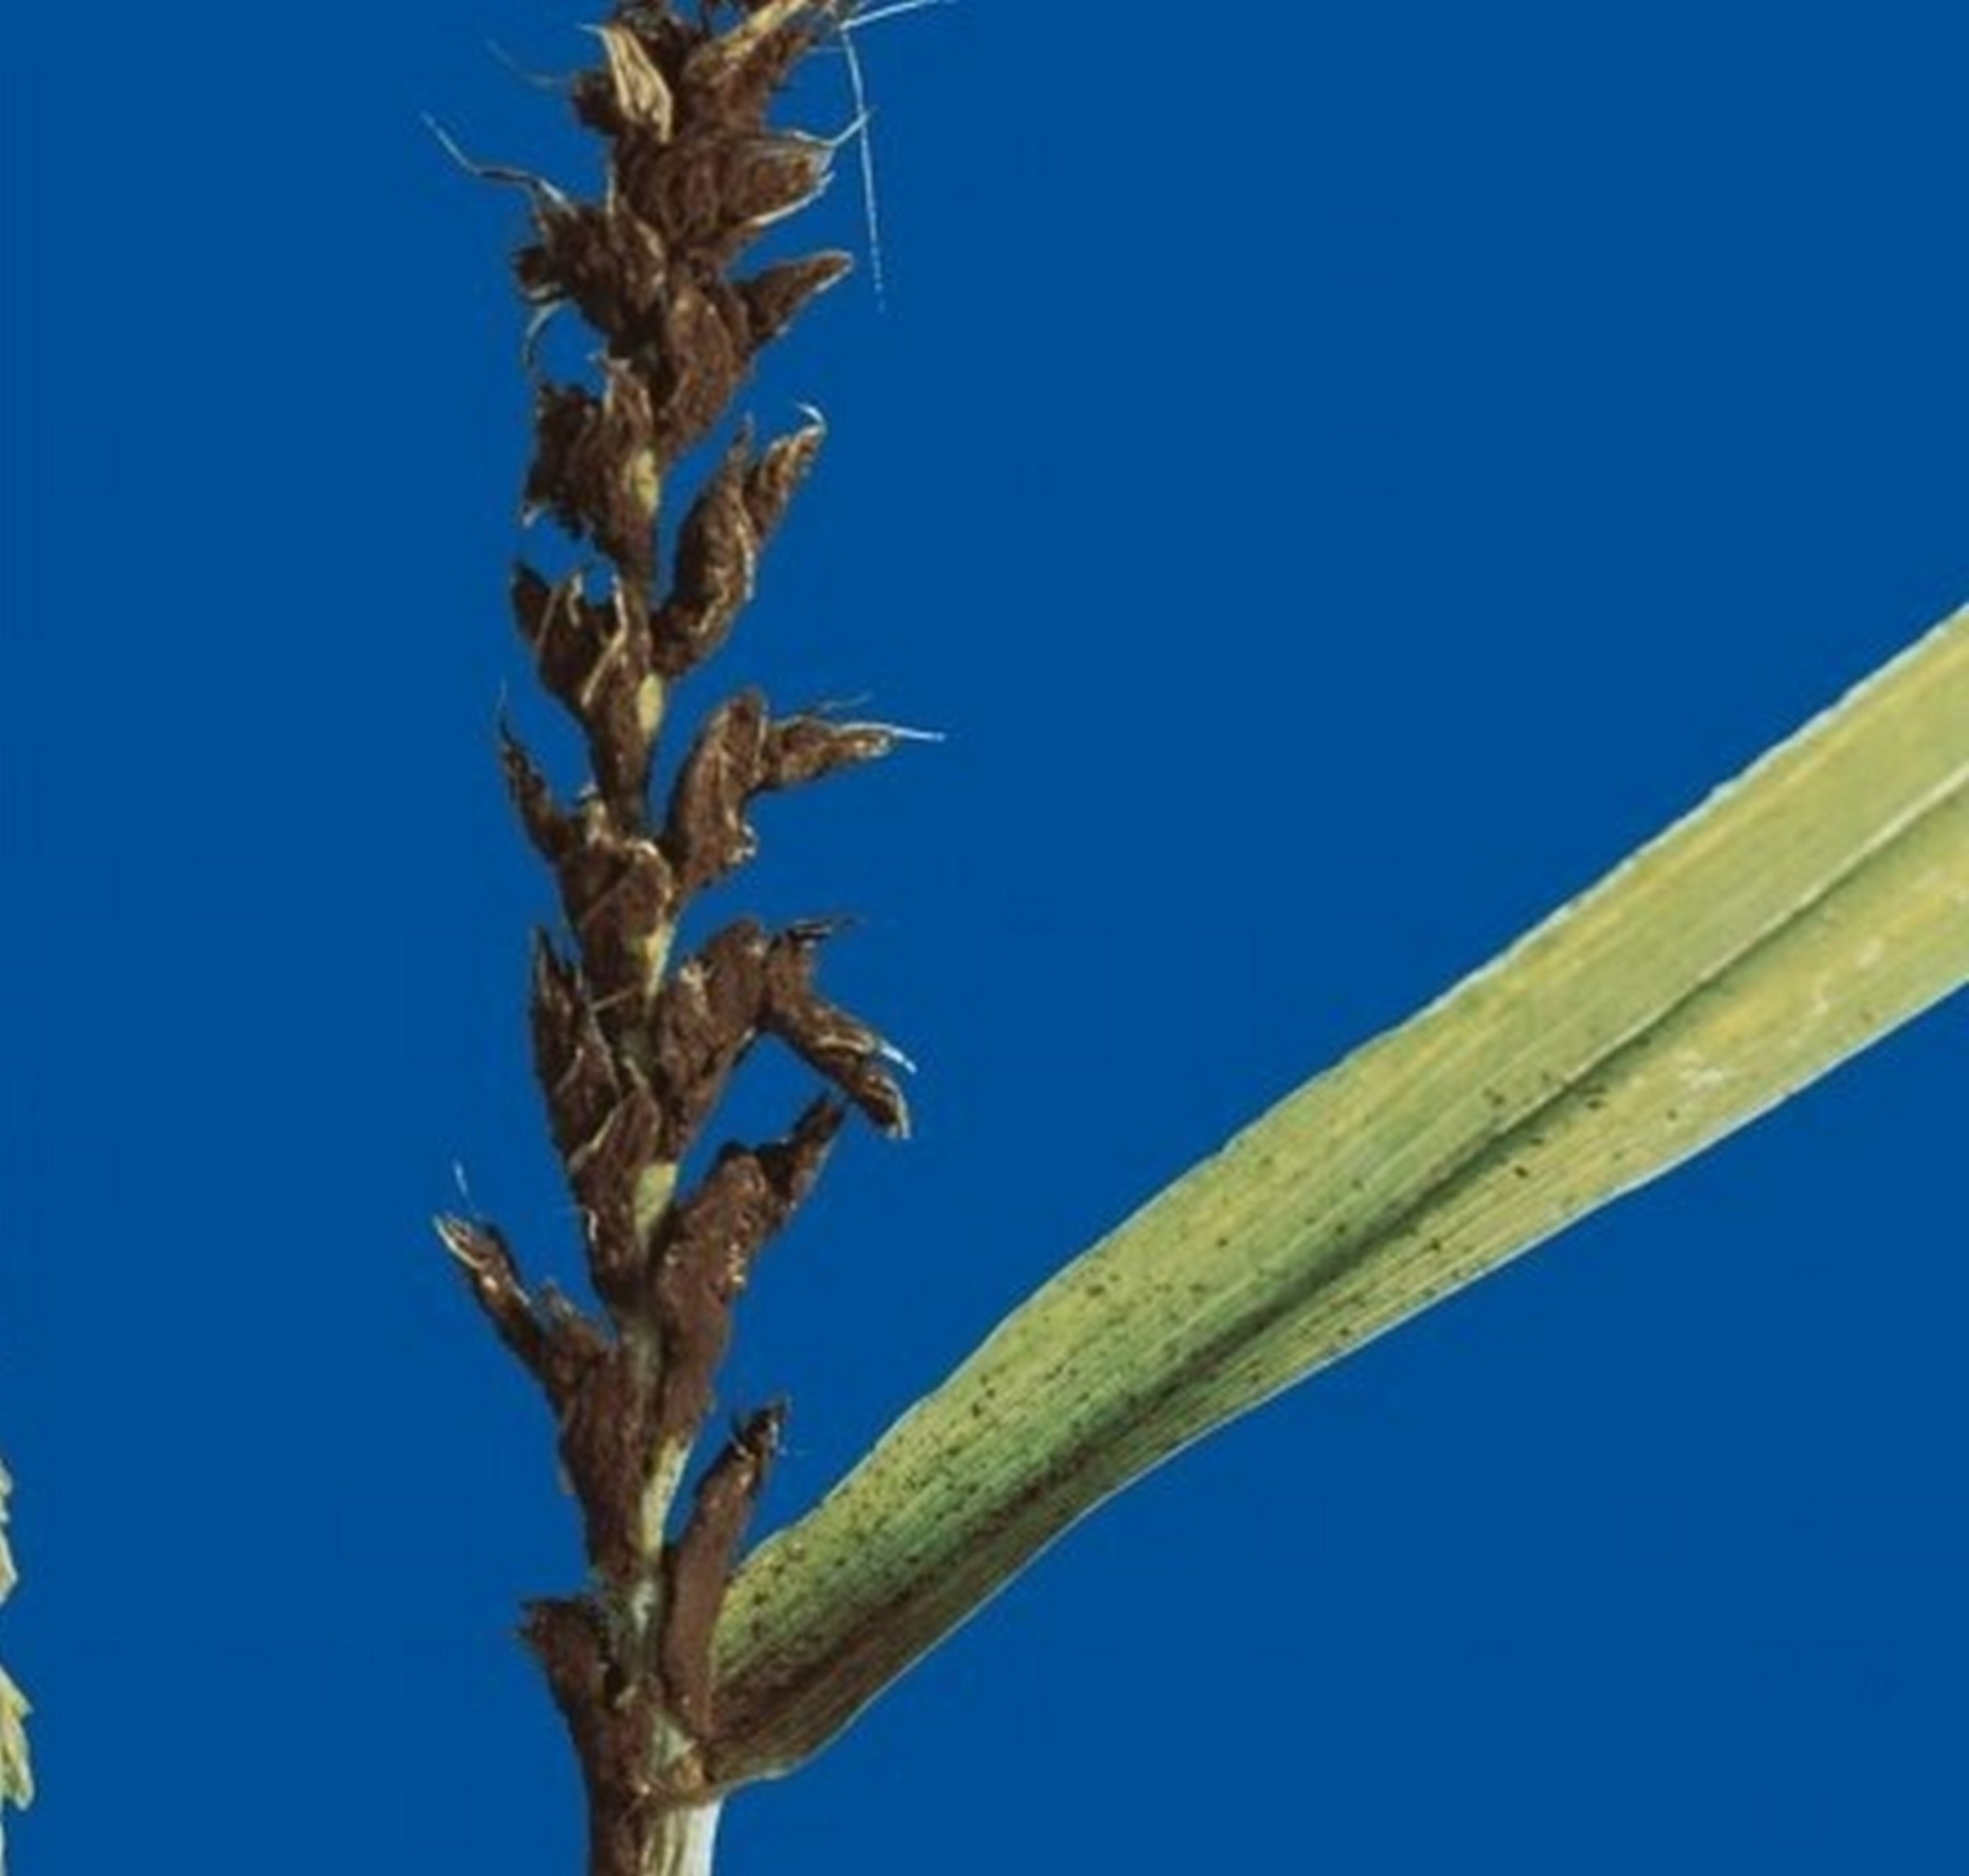Wheat Loose Smut: (403, 35, 900, 1677)
